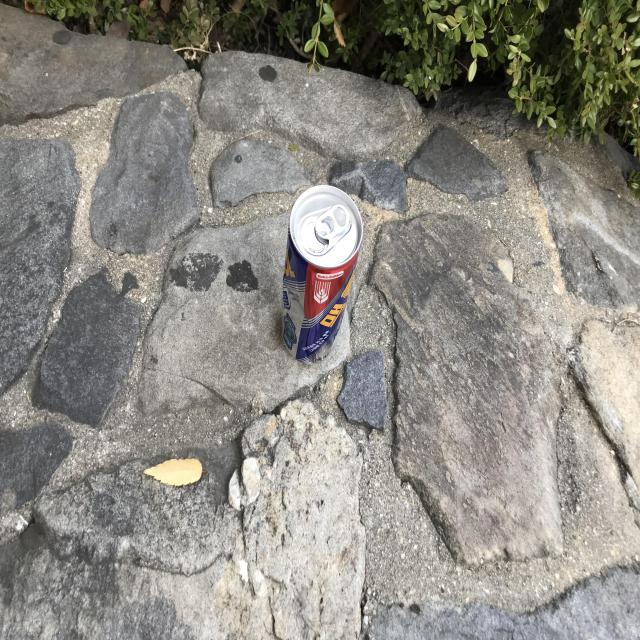can: (283, 184, 363, 363)
